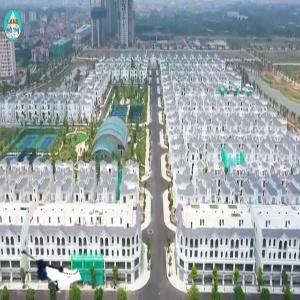drone: (11, 235, 76, 300)
